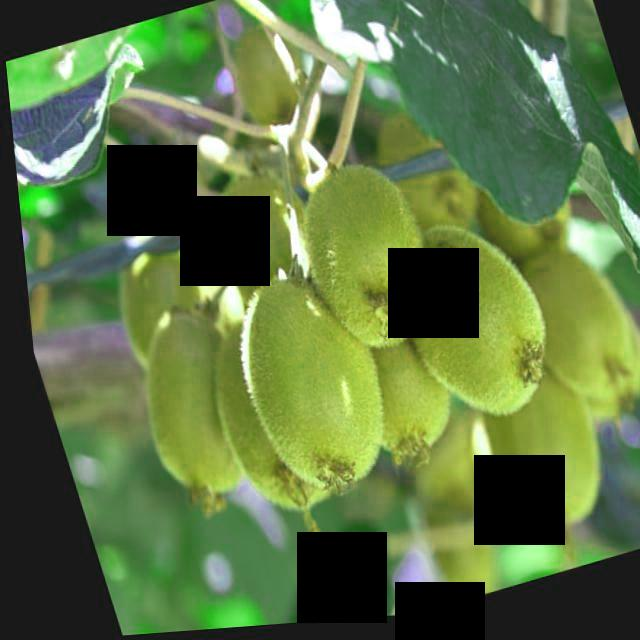kiwi: (207, 251, 401, 517), (366, 208, 563, 447), (275, 151, 445, 369), (108, 293, 264, 524), (313, 267, 468, 490), (195, 163, 329, 337)
